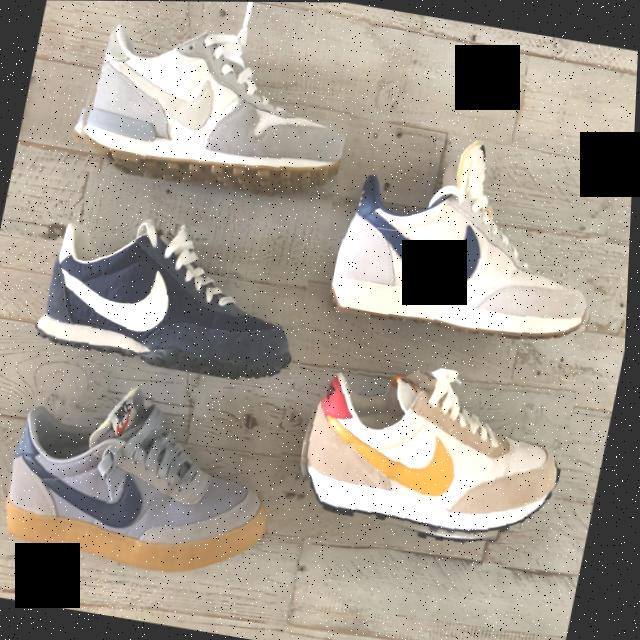shoe: (326, 122, 627, 362), (0, 366, 295, 589), (65, 0, 370, 211), (287, 347, 581, 560), (38, 204, 319, 388)
